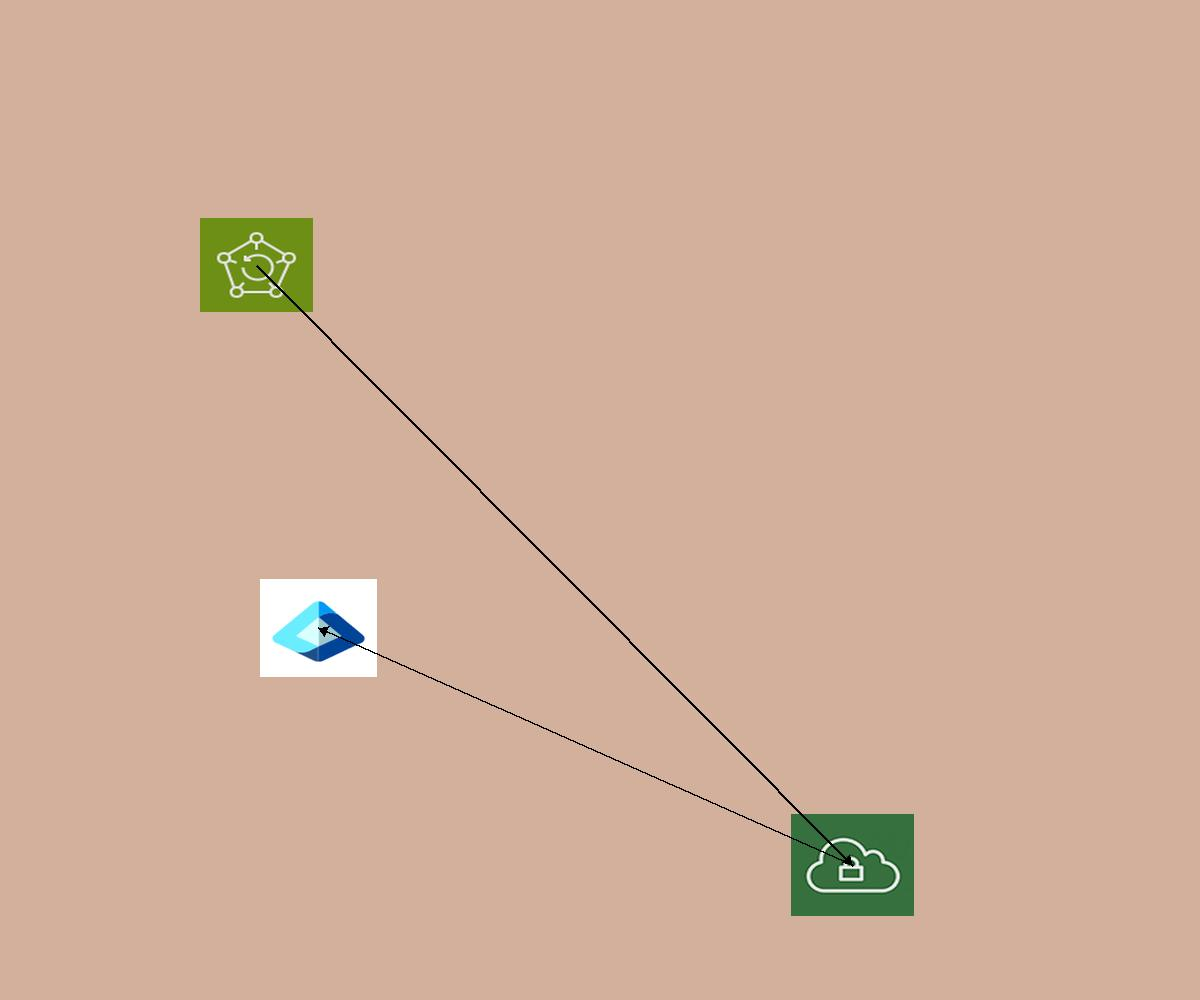AWS-Backup: (200, 218, 313, 312)
AWS-Private_vpc: (791, 814, 914, 916)
Azure_microsoft_entra: (260, 579, 377, 677)
